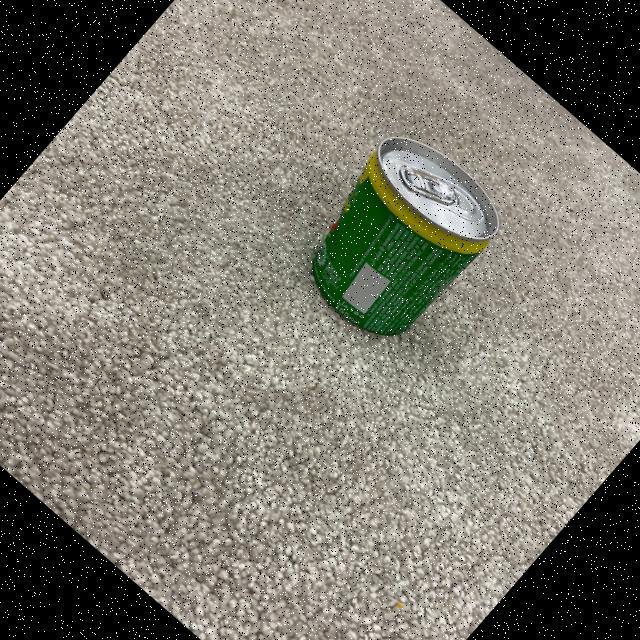debris: (268, 112, 522, 370)
